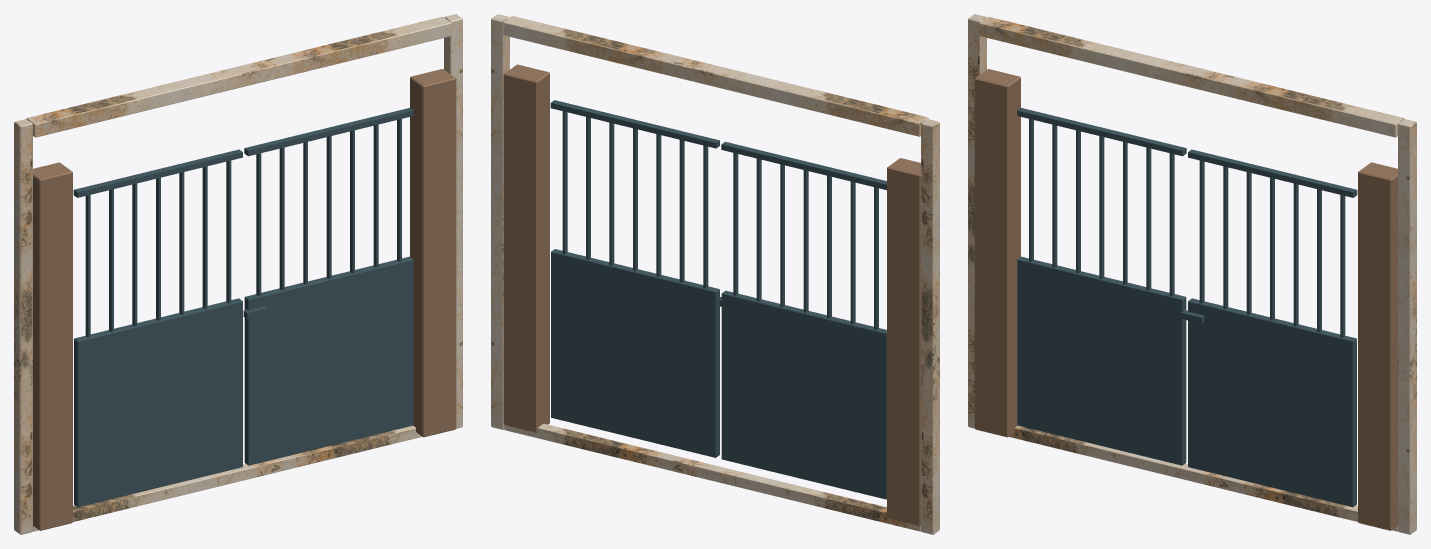
The model's file is facade_compound_gate_ground.glb.
The picture shows the model from 3 angles, left to right: view 1: azimuth 30°, elevation 25°; view 2: azimuth 150°, elevation 25°; view 3: azimuth 330°, elevation 25°; orthographic projection.
Visible parts, largest first — view 1: facade_compound_gate_ground__VVK_painted_steel, facade_compound_gate_ground__VVK_masonry, facade_compound_gate_ground__VVK_concrete_CC0; view 2: facade_compound_gate_ground__VVK_painted_steel, facade_compound_gate_ground__VVK_masonry, facade_compound_gate_ground__VVK_concrete_CC0; view 3: facade_compound_gate_ground__VVK_painted_steel, facade_compound_gate_ground__VVK_masonry, facade_compound_gate_ground__VVK_concrete_CC0.
Boxes of the visible parts, x1=… form: facade_compound_gate_ground__VVK_painted_steel: x1=73, y1=108, x2=413, y2=507; facade_compound_gate_ground__VVK_masonry: x1=33, y1=69, x2=456, y2=530; facade_compound_gate_ground__VVK_concrete_CC0: x1=14, y1=14, x2=462, y2=534; facade_compound_gate_ground__VVK_painted_steel: x1=550, y1=100, x2=886, y2=499; facade_compound_gate_ground__VVK_masonry: x1=503, y1=64, x2=920, y2=526; facade_compound_gate_ground__VVK_concrete_CC0: x1=491, y1=14, x2=939, y2=534; facade_compound_gate_ground__VVK_painted_steel: x1=1017, y1=108, x2=1357, y2=507; facade_compound_gate_ground__VVK_masonry: x1=974, y1=69, x2=1397, y2=530; facade_compound_gate_ground__VVK_concrete_CC0: x1=968, y1=14, x2=1416, y2=534.
Size of the model in its own units: 3.4 by 3 by 0.188.
3 materials, 1 textured.
